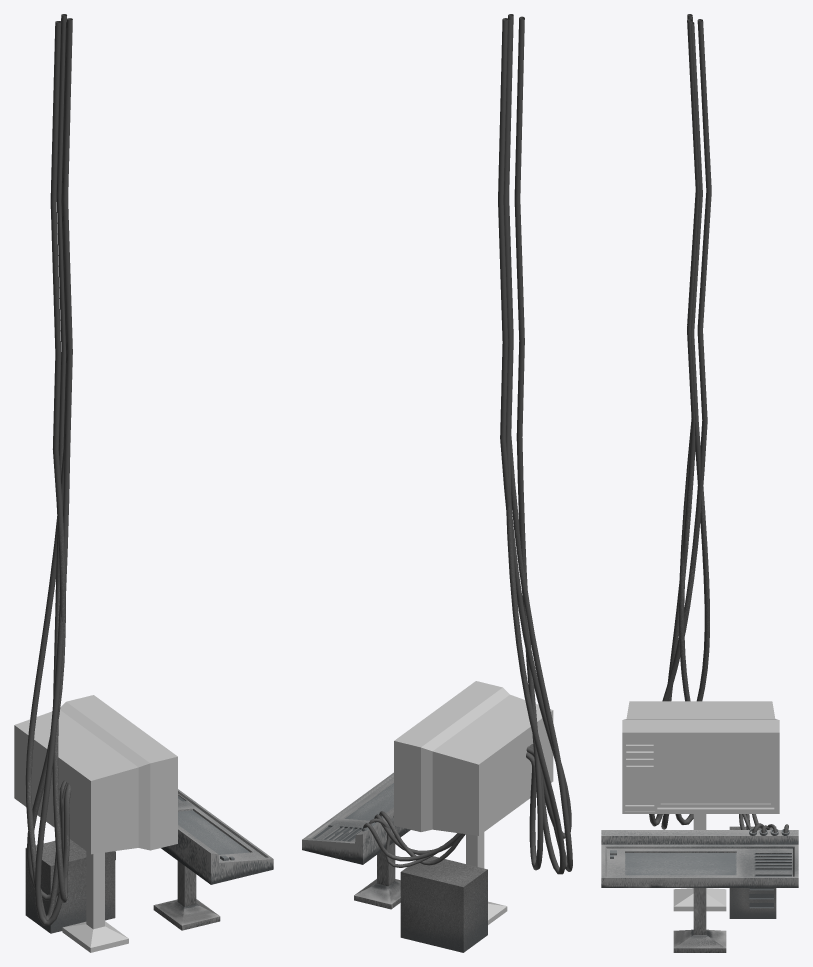
File: монитор вверх.fbx
3 views of the same model, side by side, from view 1: azimuth 30°, elevation 25°; view 2: azimuth 150°, elevation 25°; view 3: azimuth 270°, elevation 25° (orthographic). The views are drawn at different scales.
Parts seen in each view (by area): view 1: monitor, BézierCurve.001, Cube.002, Cube.001; view 2: BézierCurve.001, monitor, Cube.001, Cube.002; view 3: monitor, Cube.002, BézierCurve.001, Cube.001.
Boxes of the visible parts, box(x1,y1,x2,y2) form: monitor: box(14, 695, 177, 952); BézierCurve.001: box(25, 14, 72, 925); Cube.002: box(153, 789, 273, 930); Cube.001: box(25, 839, 115, 933); BézierCurve.001: box(363, 14, 572, 874); monitor: box(394, 681, 553, 924); Cube.001: box(400, 856, 487, 952); Cube.002: box(302, 772, 410, 909); monitor: box(622, 701, 779, 911); Cube.002: box(601, 828, 798, 952); BézierCurve.001: box(649, 14, 788, 833); Cube.001: box(729, 826, 776, 918).
Size of the model in its own units: 634 by 2756 by 568.
